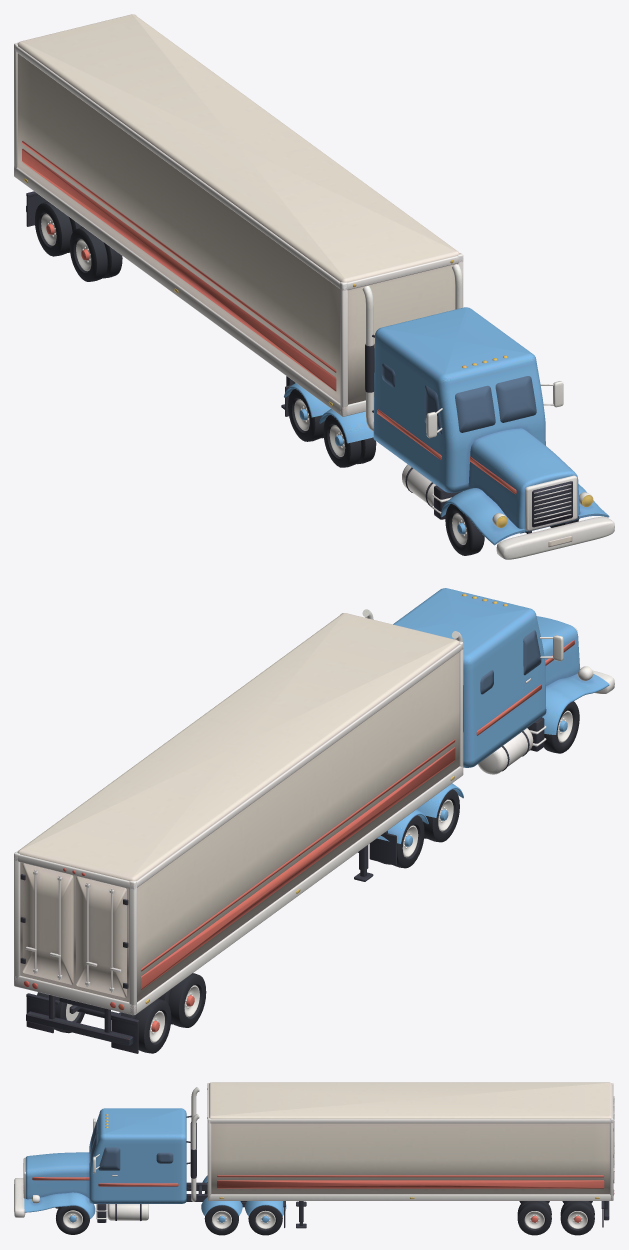
Rendered from g3-semi-truck.glb.
3 views of the same model, one above another, from view 1: azimuth 30°, elevation 25°; view 2: azimuth 150°, elevation 25°; view 3: azimuth 270°, elevation 25° (orthographic). The views are drawn at different scales.
Parts seen in each view (by area): view 1: semi-truck_trailer, semi-truck_body, semi-truck_windows, semi-truck_wheel_t1r, semi-truck_wheel_t2r, semi-truck_wheel_d1r, semi-truck_wheel_fr, semi-truck_wheel_d2r; view 2: semi-truck_trailer, semi-truck_body, semi-truck_wheel_t1r, semi-truck_wheel_t2r, semi-truck_wheel_d1r, semi-truck_wheel_fr, semi-truck_wheel_d2r, semi-truck_windows; view 3: semi-truck_trailer, semi-truck_body, semi-truck_wheel_t1l, semi-truck_wheel_t2l, semi-truck_windows, semi-truck_wheel_d1l, semi-truck_wheel_d2l, semi-truck_wheel_fl.
Boxes of the visible parts, x1,y1,x2,y2 form: semi-truck_trailer: (14, 14, 463, 416); semi-truck_body: (284, 264, 614, 559); semi-truck_windows: (381, 363, 536, 434); semi-truck_wheel_t1r: (69, 227, 122, 281); semi-truck_wheel_t2r: (35, 201, 82, 256); semi-truck_wheel_d1r: (323, 415, 376, 467); semi-truck_wheel_fr: (445, 503, 484, 555); semi-truck_wheel_d2r: (288, 389, 324, 441); semi-truck_trailer: (14, 613, 463, 1053); semi-truck_body: (362, 588, 614, 865); semi-truck_wheel_t1r: (158, 973, 206, 1027); semi-truck_wheel_t2r: (121, 998, 171, 1053); semi-truck_wheel_d1r: (423, 789, 459, 842); semi-truck_wheel_fr: (544, 701, 579, 753); semi-truck_wheel_d2r: (380, 815, 424, 868); semi-truck_windows: (480, 630, 541, 694); semi-truck_trailer: (207, 1082, 614, 1228); semi-truck_body: (14, 1087, 286, 1227); semi-truck_wheel_t1l: (517, 1201, 551, 1235); semi-truck_wheel_t2l: (560, 1201, 594, 1235); semi-truck_windows: (90, 1121, 173, 1170); semi-truck_wheel_d1l: (204, 1205, 238, 1235); semi-truck_wheel_d2l: (248, 1205, 282, 1235); semi-truck_wheel_fl: (56, 1206, 89, 1234).
Bounding box in the file's own units: 2.92 × 4 × 18.16.
Materials: 33 (2 with a texture image).
